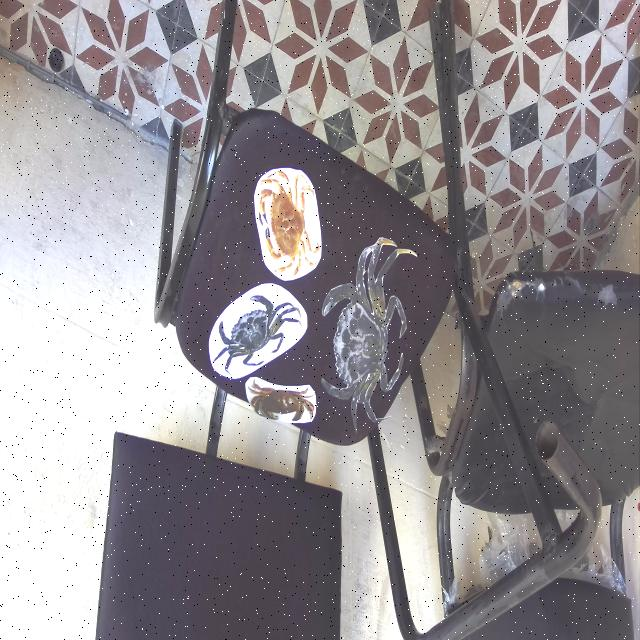European_Green_Crab: (308, 216, 418, 449), (204, 268, 305, 396)
